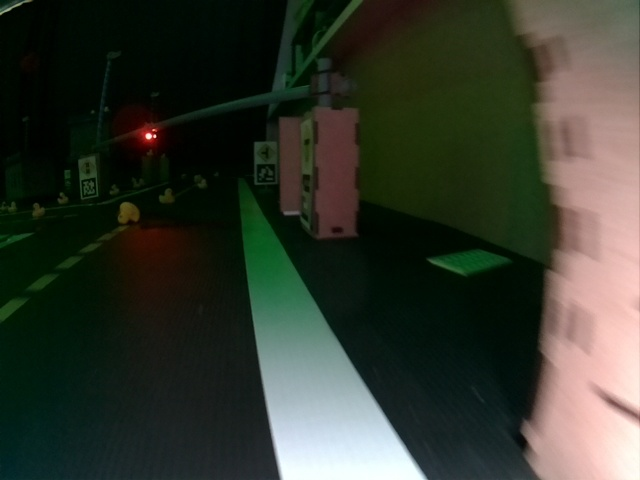Duckie: (118, 204, 139, 224), (161, 188, 172, 202), (57, 192, 67, 203), (35, 203, 44, 215), (109, 185, 118, 194), (8, 204, 17, 213), (2, 200, 10, 210), (199, 180, 205, 188)
Intersection sign: (300, 123, 314, 171), (257, 143, 276, 160)
QR code: (301, 175, 311, 227), (256, 163, 275, 184), (81, 178, 96, 198)
Signal sign: (81, 158, 95, 177)
